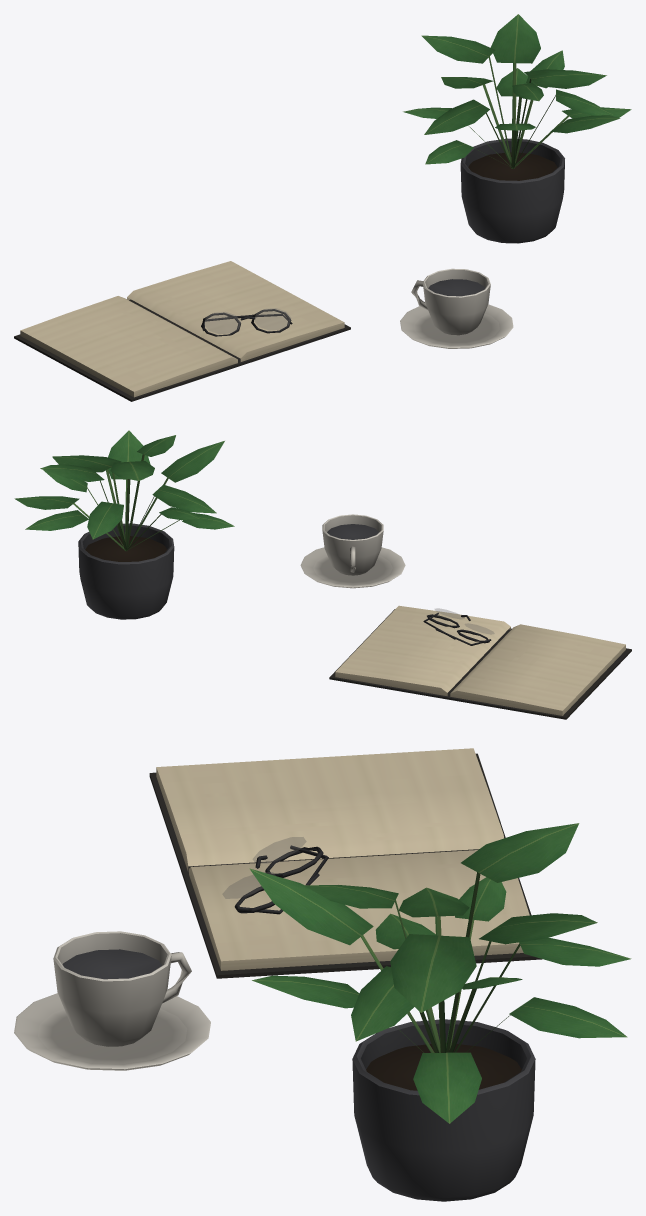
Rendered from decor_a_table_coffee_rect_b.gltf.
3 renders of one model, top to bottom at view 1: azimuth 30°, elevation 25°; view 2: azimuth 150°, elevation 25°; view 3: azimuth 270°, elevation 25°, orthographic. The views are drawn at different scales.
Parts seen in each view (by area): view 1: DecorATableCoffeeRectB_spines_NoCollide, DecorATableCoffeeRectB_leaf_NoCollide, DecorATableCoffeeRectB_charcoal_NoCollide, DecorATableCoffeeRectB_glaze_NoCollide, DecorATableCoffeeRectB_soil_NoCollide, DecorATableCoffeeRectB_glass_NoCollide, DecorATableCoffeeRectB_black_NoCollide; view 2: DecorATableCoffeeRectB_spines_NoCollide, DecorATableCoffeeRectB_leaf_NoCollide, DecorATableCoffeeRectB_charcoal_NoCollide, DecorATableCoffeeRectB_glaze_NoCollide, DecorATableCoffeeRectB_soil_NoCollide, DecorATableCoffeeRectB_black_NoCollide; view 3: DecorATableCoffeeRectB_spines_NoCollide, DecorATableCoffeeRectB_leaf_NoCollide, DecorATableCoffeeRectB_charcoal_NoCollide, DecorATableCoffeeRectB_glaze_NoCollide, DecorATableCoffeeRectB_soil_NoCollide, DecorATableCoffeeRectB_black_NoCollide, DecorATableCoffeeRectB_glass_NoCollide.
Part boxes in pixels (x1=…): DecorATableCoffeeRectB_spines_NoCollide: x1=14, y1=261, x2=350, y2=401; DecorATableCoffeeRectB_leaf_NoCollide: x1=403, y1=14, x2=631, y2=168; DecorATableCoffeeRectB_charcoal_NoCollide: x1=428, y1=138, x2=564, y2=296; DecorATableCoffeeRectB_glaze_NoCollide: x1=400, y1=268, x2=513, y2=348; DecorATableCoffeeRectB_soil_NoCollide: x1=468, y1=152, x2=557, y2=180; DecorATableCoffeeRectB_glass_NoCollide: x1=204, y1=308, x2=290, y2=333; DecorATableCoffeeRectB_black_NoCollide: x1=201, y1=309, x2=292, y2=336; DecorATableCoffeeRectB_spines_NoCollide: x1=329, y1=605, x2=631, y2=719; DecorATableCoffeeRectB_leaf_NoCollide: x1=14, y1=430, x2=234, y2=551; DecorATableCoffeeRectB_charcoal_NoCollide: x1=78, y1=523, x2=378, y2=619; DecorATableCoffeeRectB_glaze_NoCollide: x1=300, y1=514, x2=405, y2=588; DecorATableCoffeeRectB_soil_NoCollide: x1=85, y1=536, x2=167, y2=561; DecorATableCoffeeRectB_black_NoCollide: x1=423, y1=612, x2=491, y2=645; DecorATableCoffeeRectB_spines_NoCollide: x1=149, y1=748, x2=542, y2=978; DecorATableCoffeeRectB_leaf_NoCollide: x1=249, y1=823, x2=631, y2=1123; DecorATableCoffeeRectB_charcoal_NoCollide: x1=62, y1=949, x2=535, y2=1201; DecorATableCoffeeRectB_glaze_NoCollide: x1=14, y1=931, x2=210, y2=1070; DecorATableCoffeeRectB_soil_NoCollide: x1=366, y1=1043, x2=521, y2=1090; DecorATableCoffeeRectB_black_NoCollide: x1=234, y1=845, x2=328, y2=914; DecorATableCoffeeRectB_glass_NoCollide: x1=222, y1=837, x2=306, y2=898.
Size of the model in its own units: 0.8853 by 0.2426 by 0.4475.
Materials: 7 (2 with a texture image).
